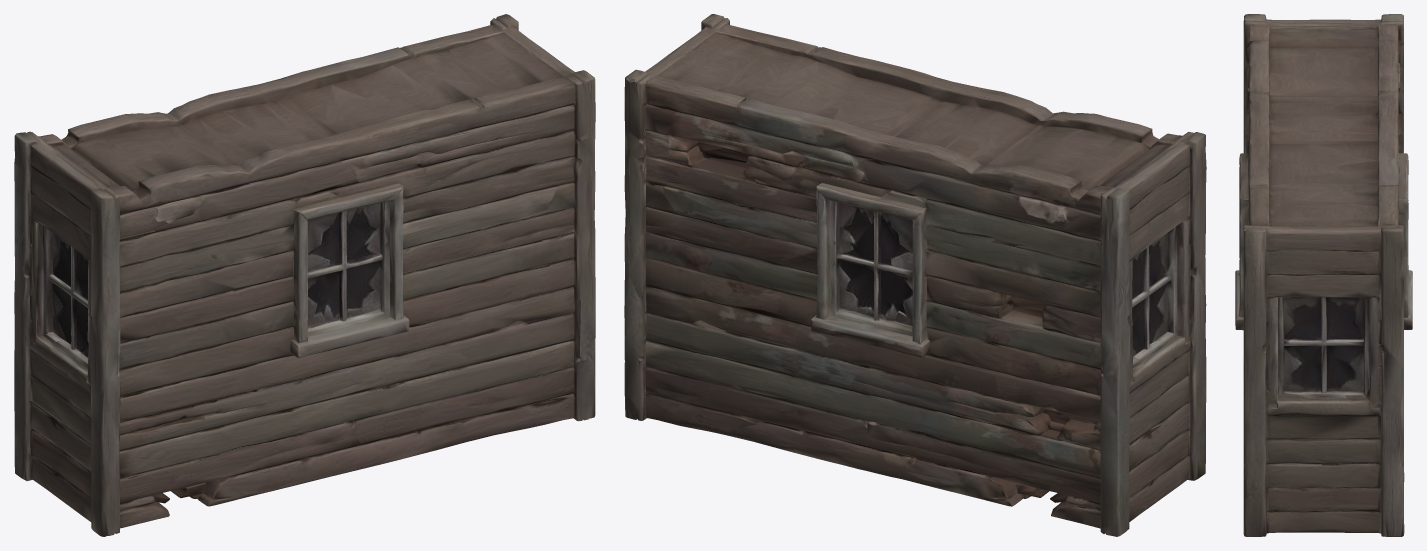
The model's file is facade_wood_window_damaged_idle.glb.
The picture shows the model from 3 angles, left to right: view 1: azimuth 30°, elevation 25°; view 2: azimuth 150°, elevation 25°; view 3: azimuth 270°, elevation 25°; orthographic projection. The views are drawn at different scales.
Parts seen in each view (by area): view 1: tripo_node_259b17be-54a3-48d4-8b33-4b7952f90e07; view 2: tripo_node_259b17be-54a3-48d4-8b33-4b7952f90e07; view 3: tripo_node_259b17be-54a3-48d4-8b33-4b7952f90e07.
Boxes of the visible parts, x1=… form: tripo_node_259b17be-54a3-48d4-8b33-4b7952f90e07: x1=14, y1=14, x2=595, y2=536; tripo_node_259b17be-54a3-48d4-8b33-4b7952f90e07: x1=624, y1=14, x2=1206, y2=536; tripo_node_259b17be-54a3-48d4-8b33-4b7952f90e07: x1=1235, y1=14, x2=1412, y2=536.
Bounding box in the file's own units: 3 × 1.97 × 1.03.
Materials: 1 (1 with a texture image).
